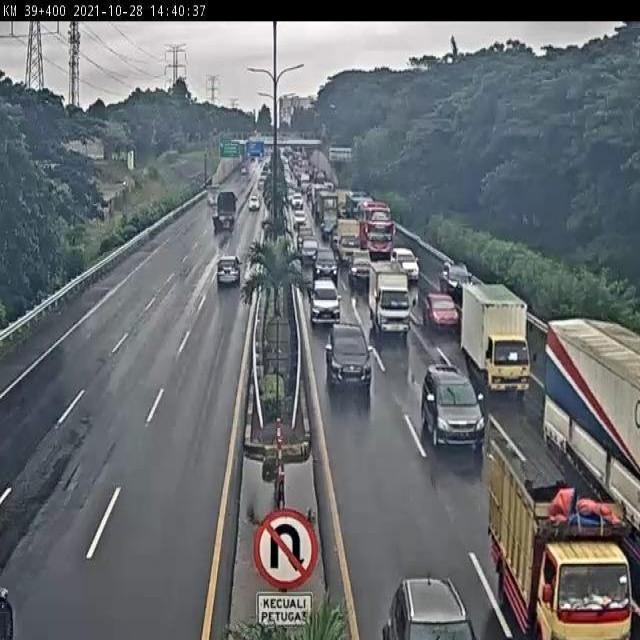car: (421, 362, 489, 450), (324, 319, 373, 385), (426, 288, 459, 333), (309, 280, 342, 324), (440, 258, 475, 294), (391, 242, 421, 282), (311, 245, 340, 284), (348, 250, 373, 286), (214, 255, 241, 285)
truck-l-: (546, 315, 640, 556)
truck-m-: (486, 413, 630, 640), (461, 280, 530, 393)
truck-s-: (368, 259, 412, 337)
